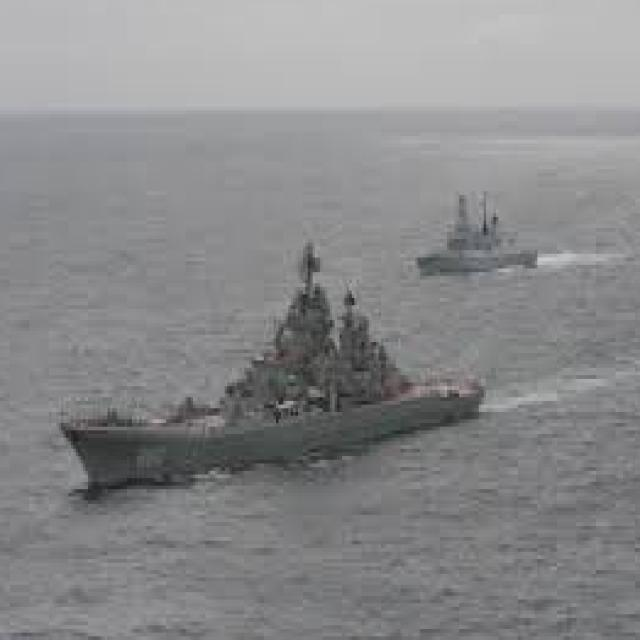navalvessels: (62, 246, 494, 506), (416, 174, 548, 266)
